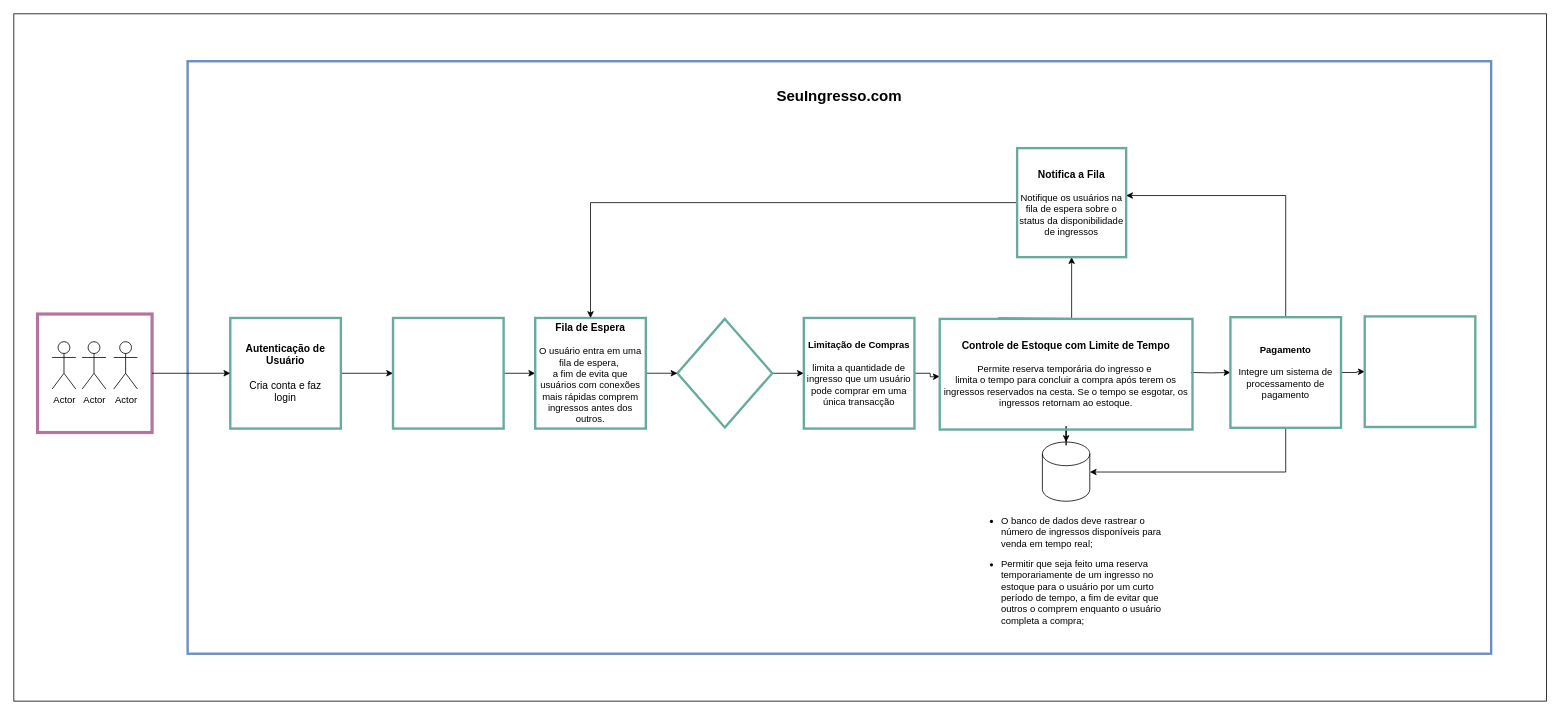
Some shapes in this 1560 by 715 pixel diagram are drawn without their labels. Here are the shapes that lost their labels. From the top down, the centre of each, then its label:
At point (447, 372): "Compra de Ingresso Permite acesso a compra de ingressos".
At point (724, 372): "Há ingresso disponível em estoque?".
At point (1419, 371): "Confirmação da Compra Envie uma confirmação de compra por email para os usuários".
At point (1066, 471): "DB".
